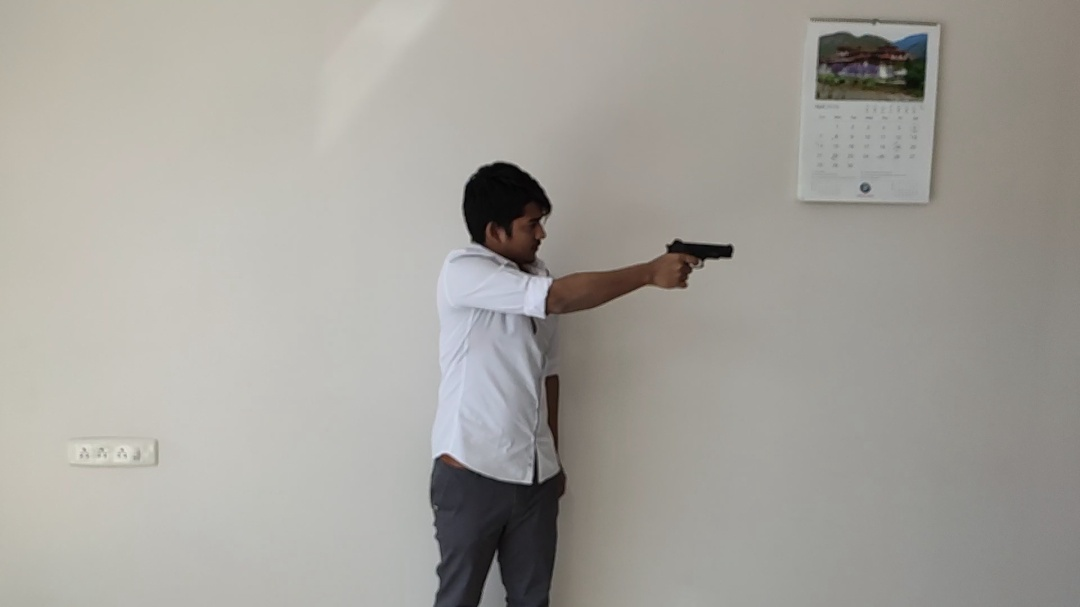gun: (665, 237, 734, 269)
